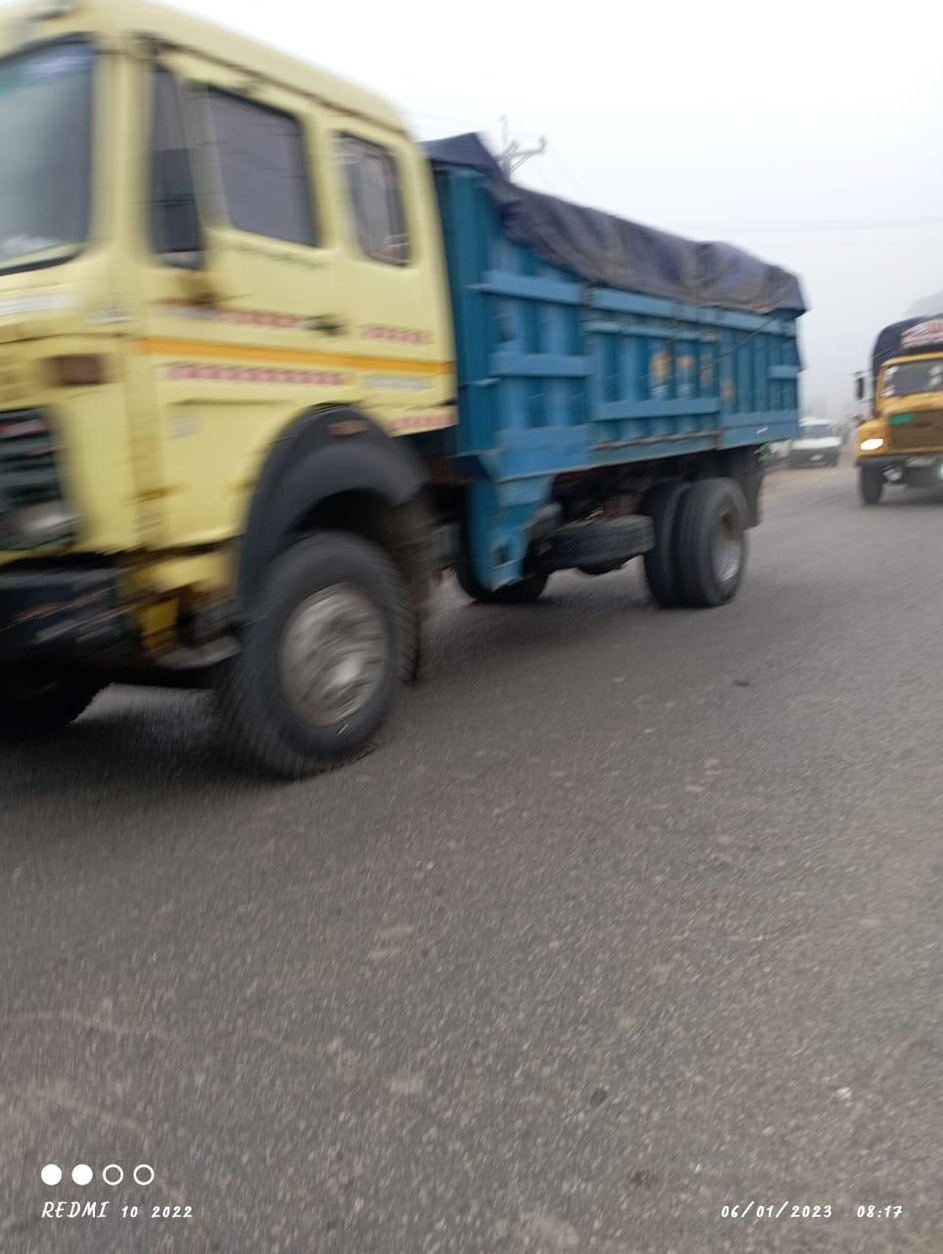Car: (784, 408, 851, 481)
Truck: (14, 4, 801, 764), (838, 307, 943, 516)
